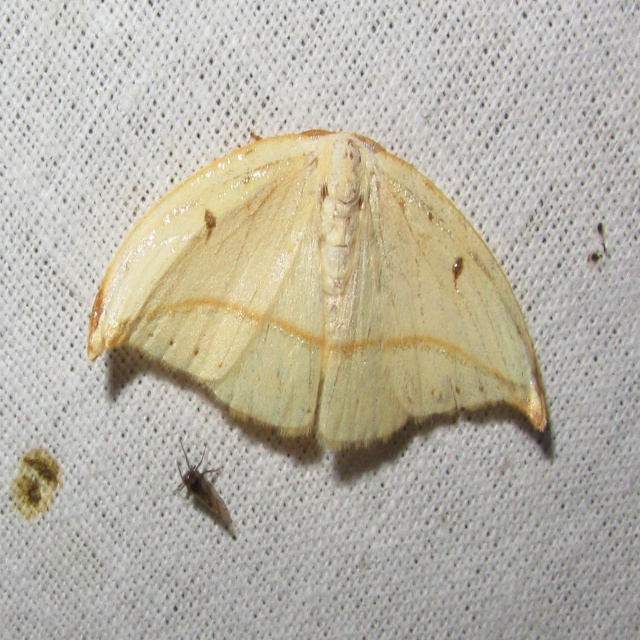Moths and butterflies: (87, 124, 549, 461)
